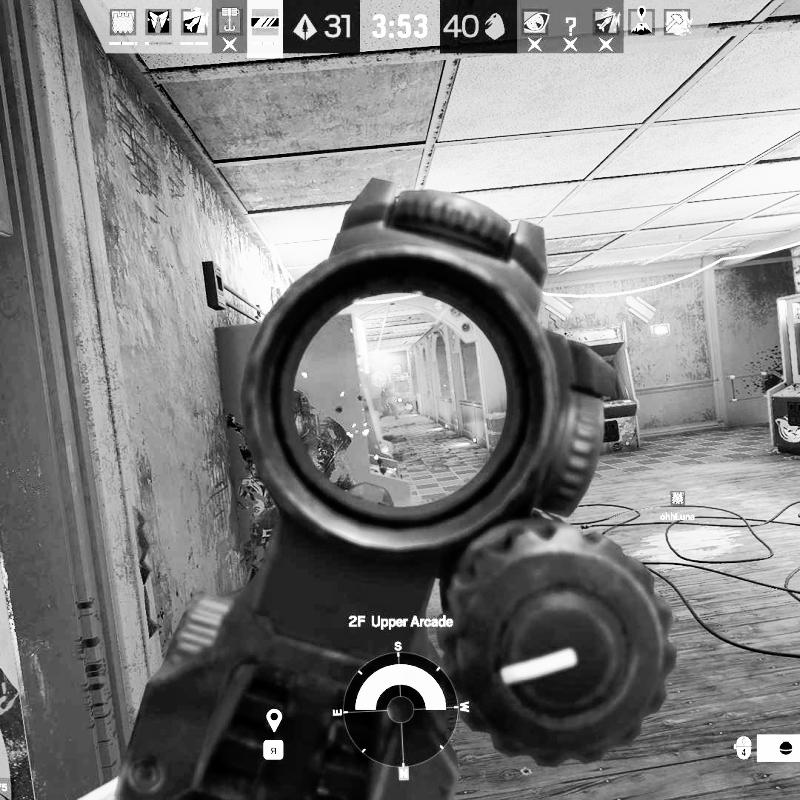Character: (378, 387, 400, 421)
Friend_label: (660, 490, 696, 521)
